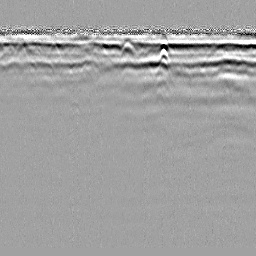cavity: (119, 37, 136, 58)
